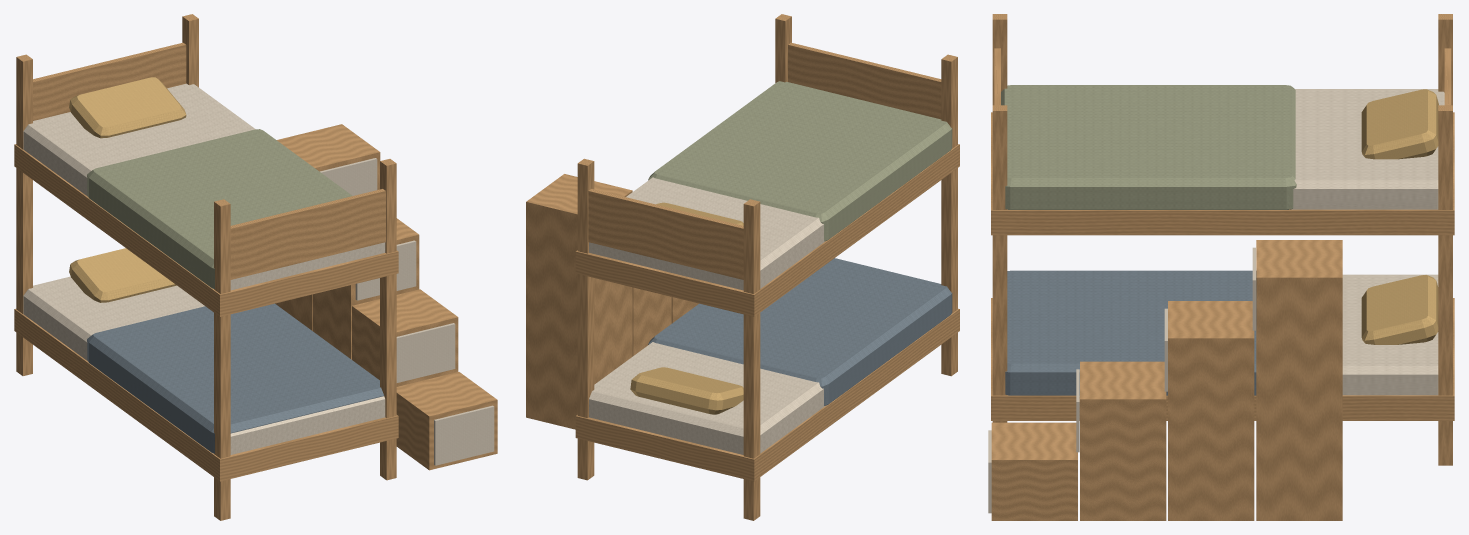
The model's file is bed_bunk_kids.glb.
The picture shows the model from 3 angles, left to right: view 1: azimuth 30°, elevation 25°; view 2: azimuth 150°, elevation 25°; view 3: azimuth 270°, elevation 25°; orthographic projection. The views are drawn at different scales.
Parts seen in each view (by area): view 1: bed_bunk_kids_woodOak, bed_bunk_kids_beddingWhite, bed_bunk_kids_pillowNavy, bed_bunk_kids_pillowSage, bed_bunk_kids_pillowMustard; view 2: bed_bunk_kids_woodOak, bed_bunk_kids_pillowSage, bed_bunk_kids_pillowNavy, bed_bunk_kids_beddingWhite, bed_bunk_kids_pillowMustard; view 3: bed_bunk_kids_woodOak, bed_bunk_kids_pillowSage, bed_bunk_kids_beddingWhite, bed_bunk_kids_pillowNavy, bed_bunk_kids_pillowMustard.
Part boxes in pixels (x1,y1,x2,y2): bed_bunk_kids_woodOak: (14, 14, 497, 520); bed_bunk_kids_beddingWhite: (23, 83, 494, 465); bed_bunk_kids_pillowNavy: (87, 303, 384, 453); bed_bunk_kids_pillowSage: (87, 129, 352, 288); bed_bunk_kids_pillowMustard: (69, 77, 186, 302); bed_bunk_kids_woodOak: (526, 14, 959, 520); bed_bunk_kids_pillowSage: (648, 81, 952, 241); bed_bunk_kids_pillowNavy: (648, 258, 952, 405); bed_bunk_kids_beddingWhite: (589, 177, 824, 454); bed_bunk_kids_pillowMustard: (630, 202, 743, 414); bed_bunk_kids_woodOak: (991, 14, 1454, 520); bed_bunk_kids_pillowSage: (1001, 85, 1296, 209); bed_bunk_kids_beddingWhite: (988, 89, 1444, 513); bed_bunk_kids_pillowNavy: (1005, 270, 1256, 395); bed_bunk_kids_pillowMustard: (1361, 89, 1438, 344).
Size of what is drawn, in the model's own units: 1.59 by 1.72 by 2.05.
Materials: 5 (5 with a texture image).
